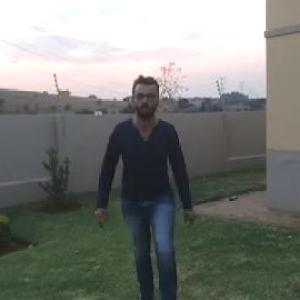follow: (110, 80, 189, 299)
